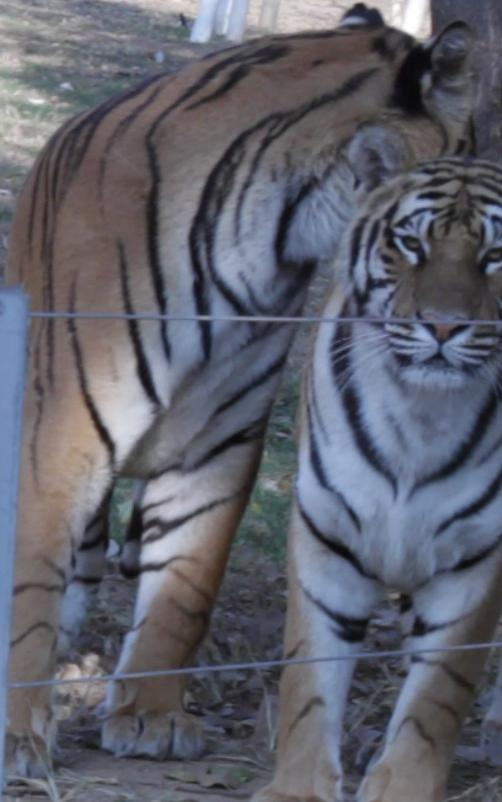tiger: (8, 7, 501, 801)
